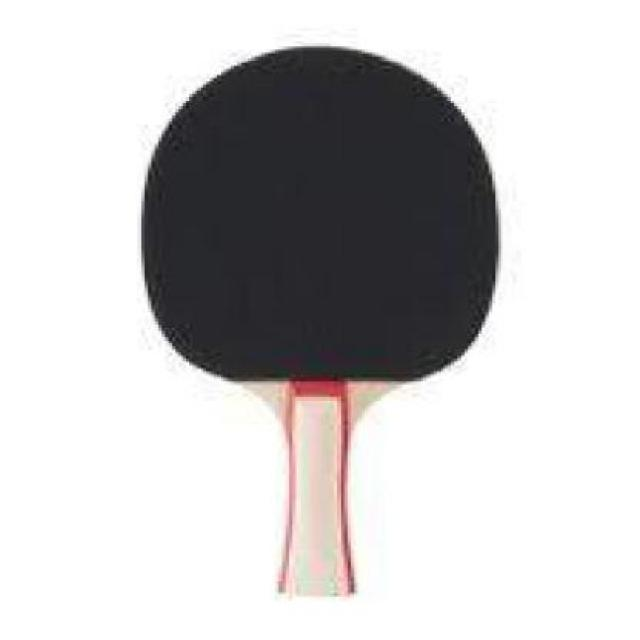table_tennis_racket: (132, 41, 510, 424)
